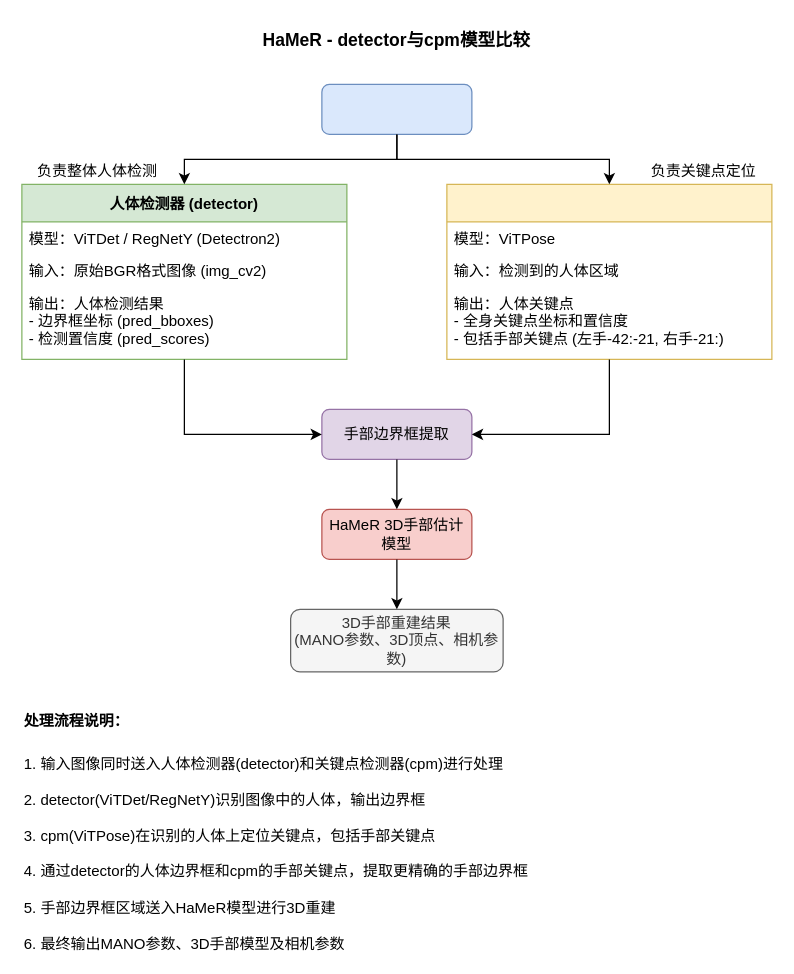
Image size: 794x974. Some labels were removed from this diagram. Here are the shapes that lost their labels. From the top down, the box of each, then its label:
(321, 83, 472, 134): 输入图像
(446, 183, 772, 359): 关键点检测器 (cpm)
